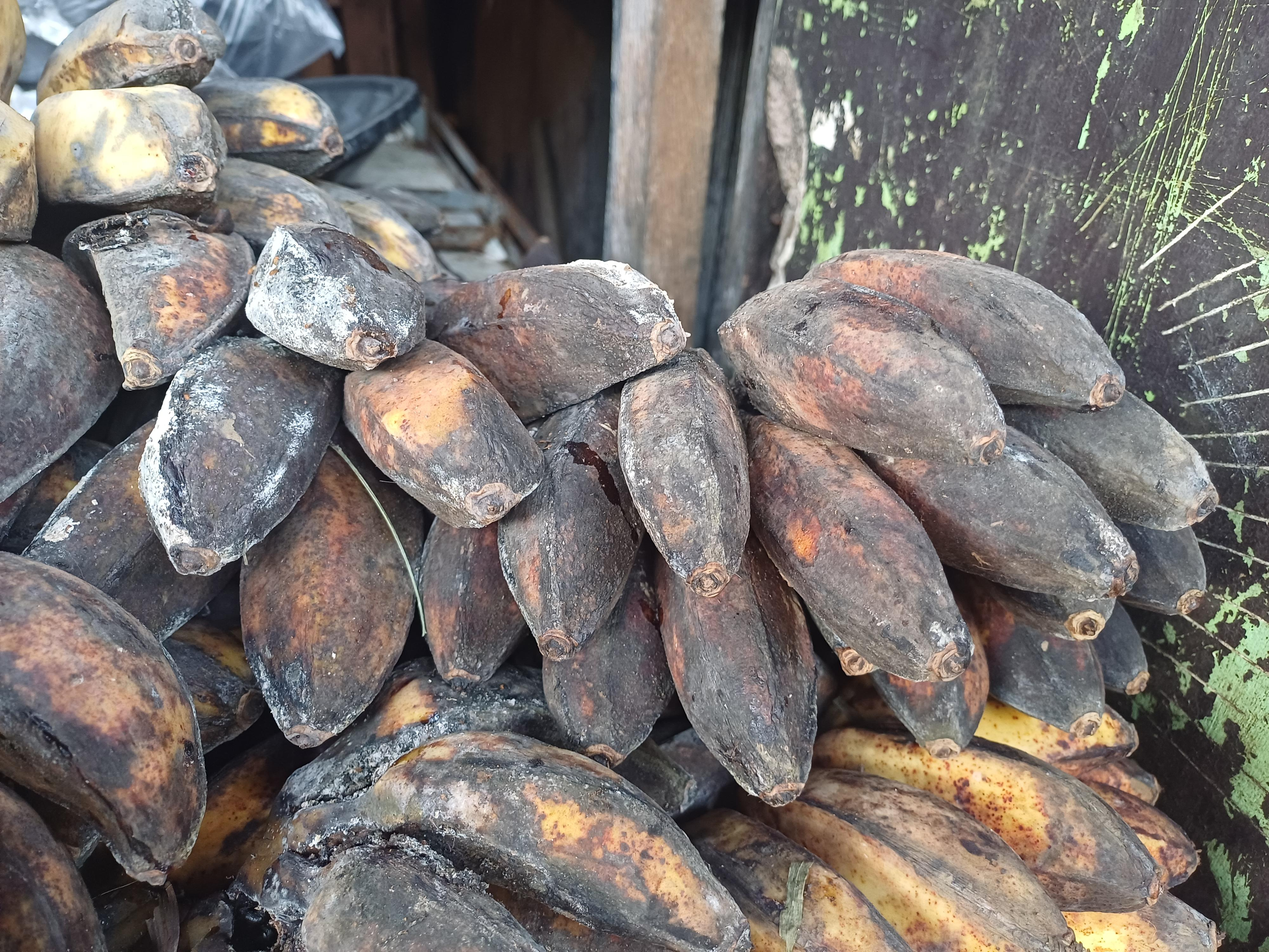overripe: (421, 250, 1217, 803), (0, 209, 686, 745), (282, 656, 755, 952), (813, 523, 1206, 757), (0, 552, 206, 952)
ripe: (681, 670, 1228, 952), (0, 0, 440, 282)
